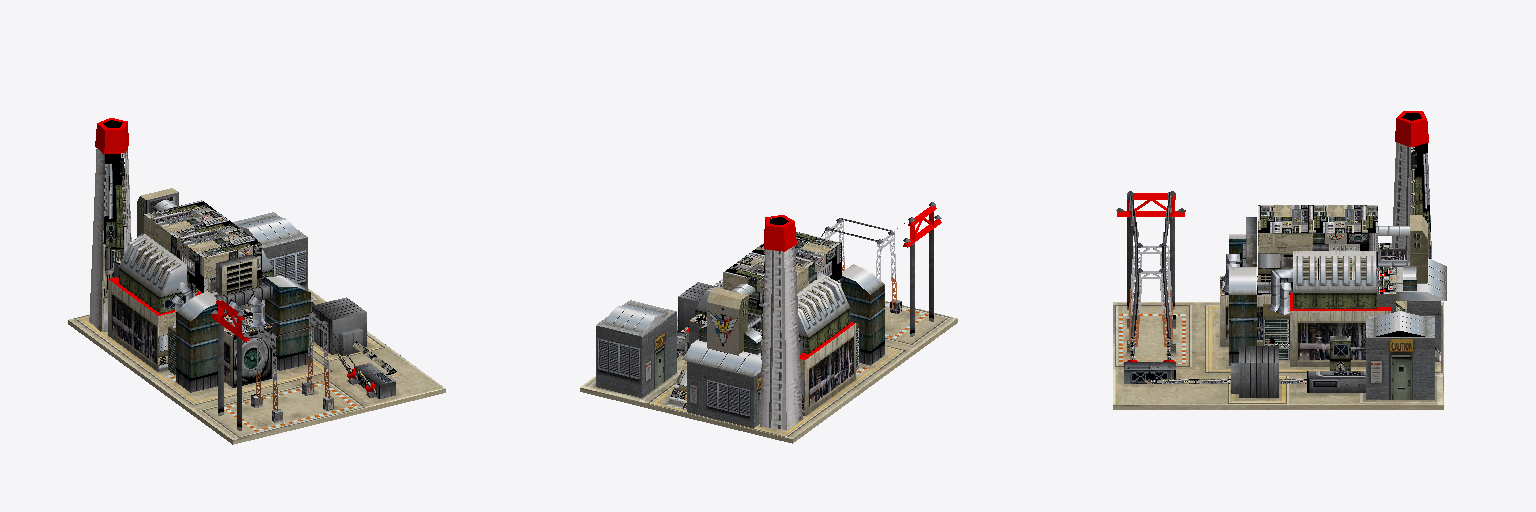
The picture shows the model from 3 angles: view 1: azimuth 30°, elevation 25°; view 2: azimuth 150°, elevation 25°; view 3: azimuth 270°, elevation 25°; orthographic projection.
Visible parts, largest first — view 1: BUILDING, GENERATOR_COVER, HOUSECOLOR01; view 2: BUILDING, GENERATOR_COVER, HOUSECOLOR01; view 3: BUILDING, GENERATOR_COVER, HOUSECOLOR01, WIRES, CYLINDER01.
Part boxes in pixels (bbox=[...]): BUILDING: bbox=[68, 120, 445, 444]; GENERATOR_COVER: bbox=[119, 222, 329, 410]; HOUSECOLOR01: bbox=[95, 118, 374, 392]; BUILDING: bbox=[580, 202, 957, 443]; GENERATOR_COVER: bbox=[707, 220, 896, 352]; HOUSECOLOR01: bbox=[686, 206, 941, 359]; BUILDING: bbox=[1113, 113, 1446, 409]; GENERATOR_COVER: bbox=[1129, 246, 1376, 346]; HOUSECOLOR01: bbox=[1117, 111, 1428, 361]; WIRES: bbox=[1128, 192, 1172, 337]; CYLINDER01: bbox=[1303, 258, 1365, 279].
Bounding box in the file's own units: 45.7 × 41.83 × 61.95.
4 materials, 1 textured.